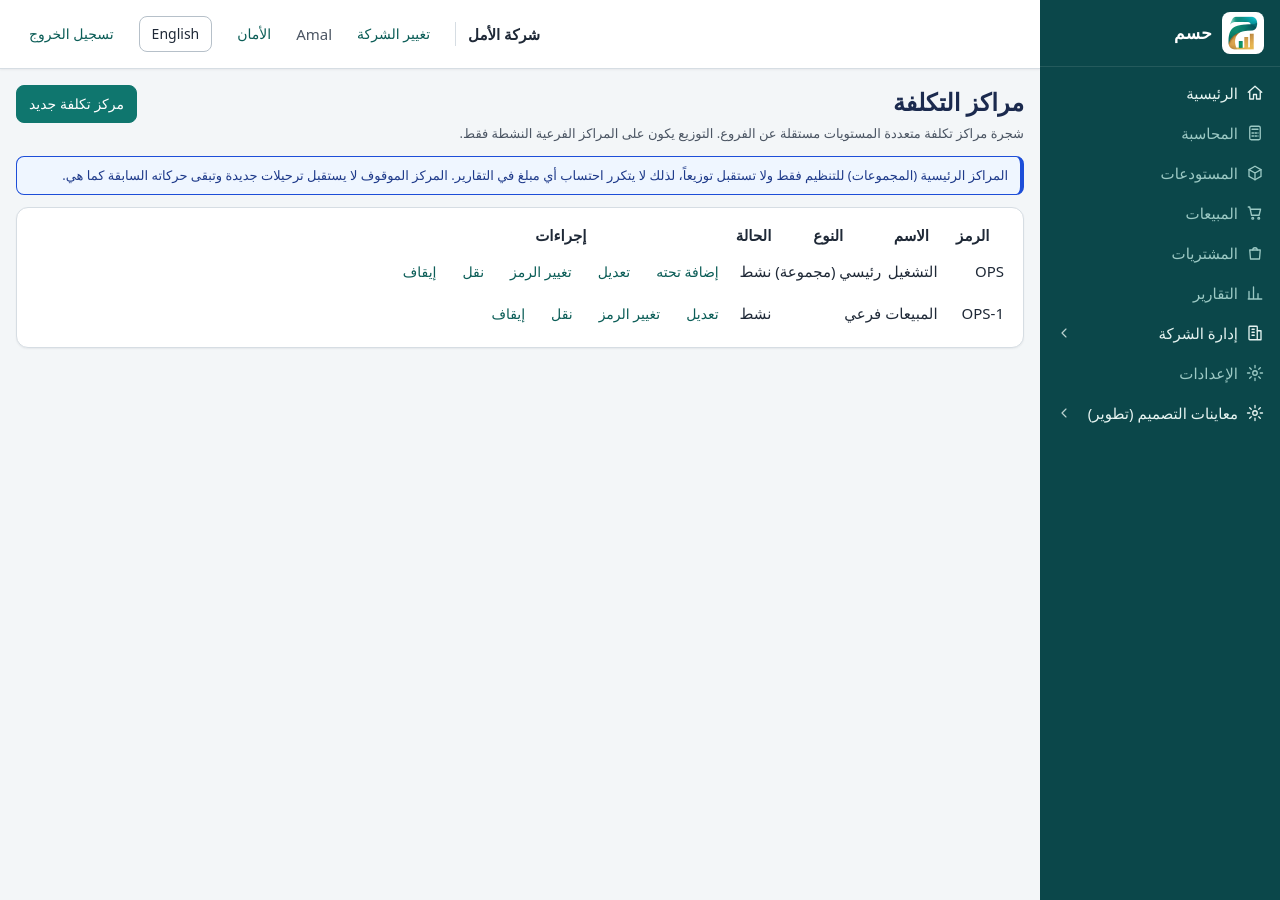
cost centers screen › re-codes, moves and deactivates with the item revision and maps a duplicate code to a clear message
Expected: the element with test id "company-name" is shown, [455,22,540,46]
Click the button "إيقاف" in the row of "OPS-1". click: (508, 313)
box: [478,294,538,332]
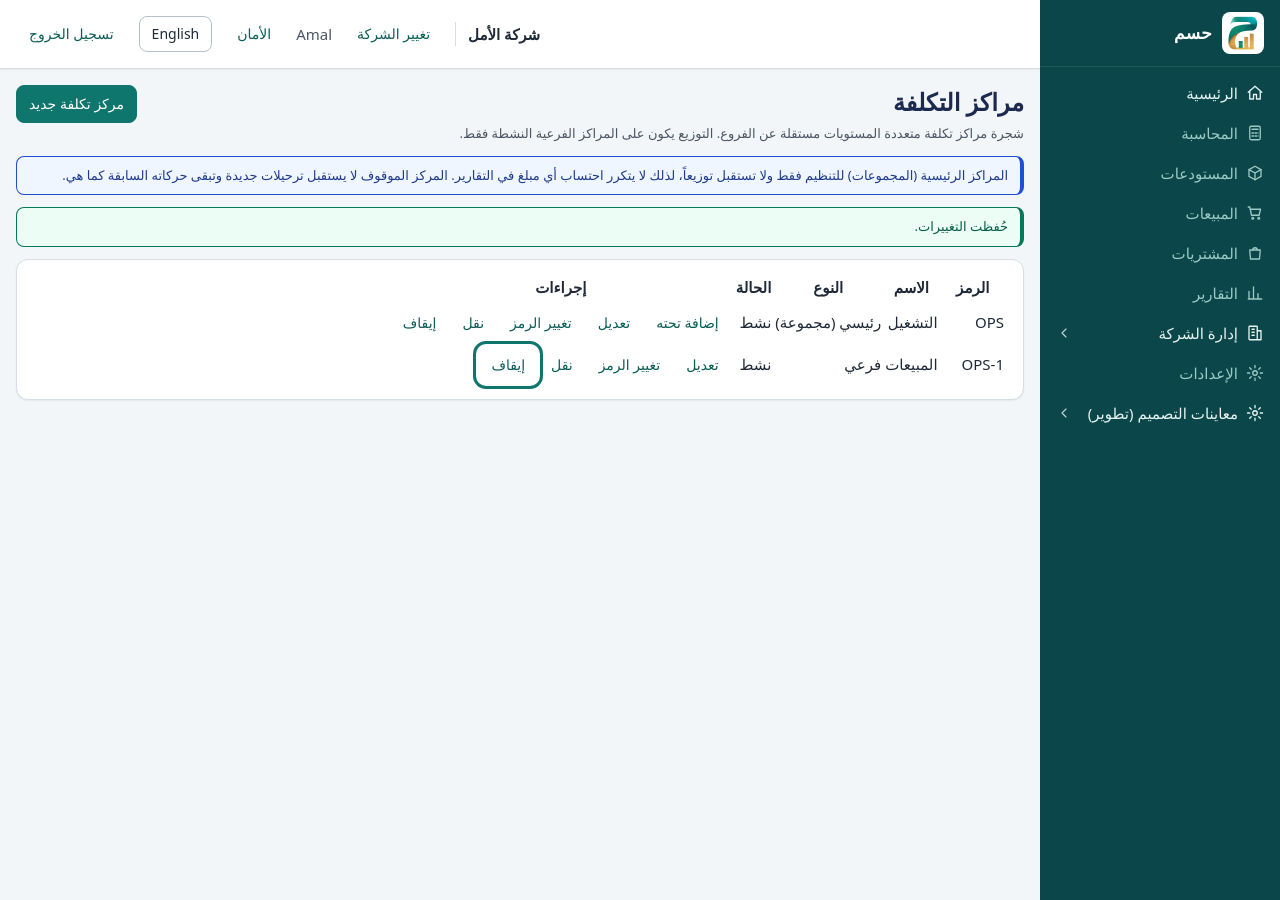
Click the button "نقل" in the row of "OPS-1". click: (562, 365)
box: [538,346,586,384]
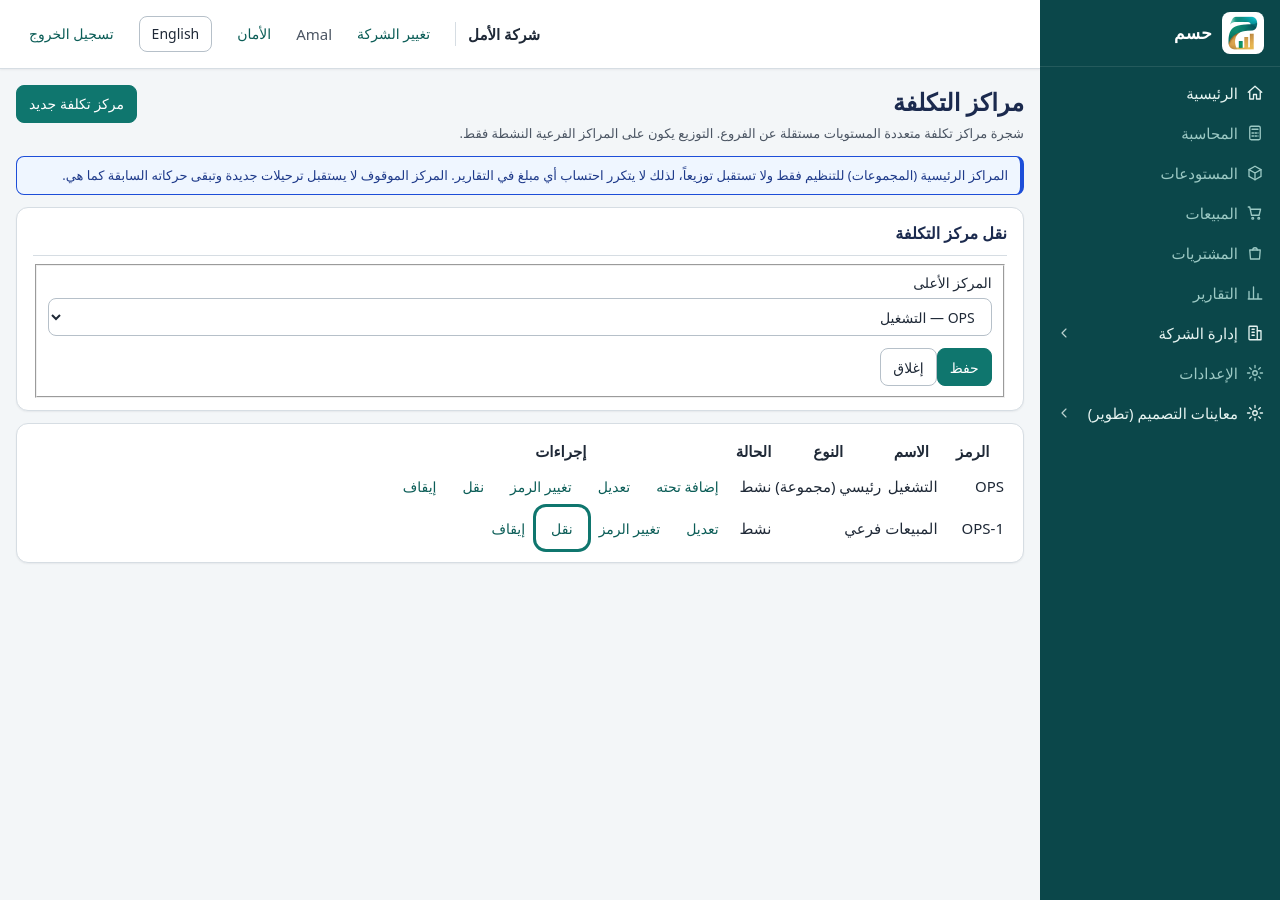
Click the button "حفظ". click: (964, 367)
box: [937,348,992,386]
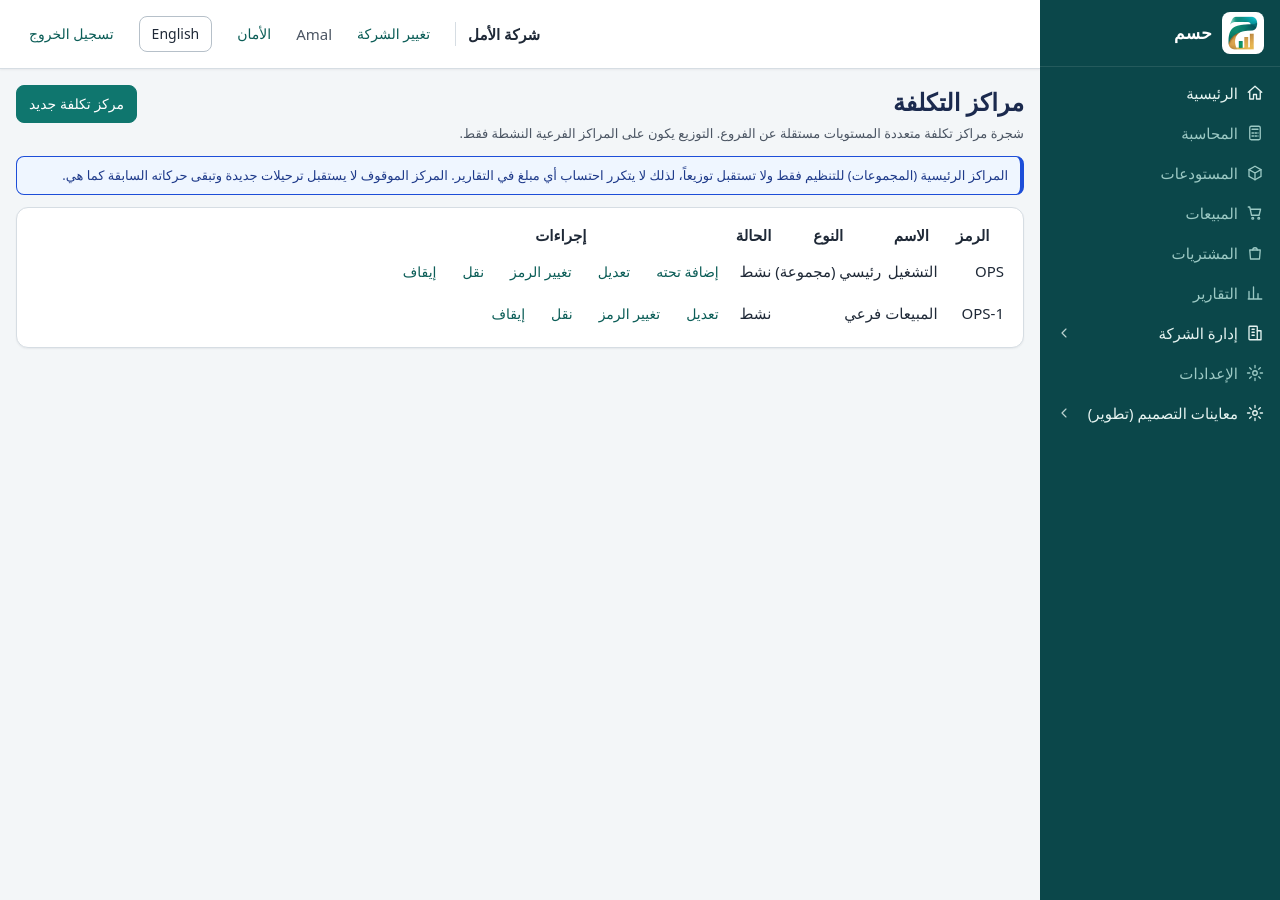
Click the button "تغيير الرمز" in the row of "OPS-1". click: (629, 313)
box: [586,294,673,332]
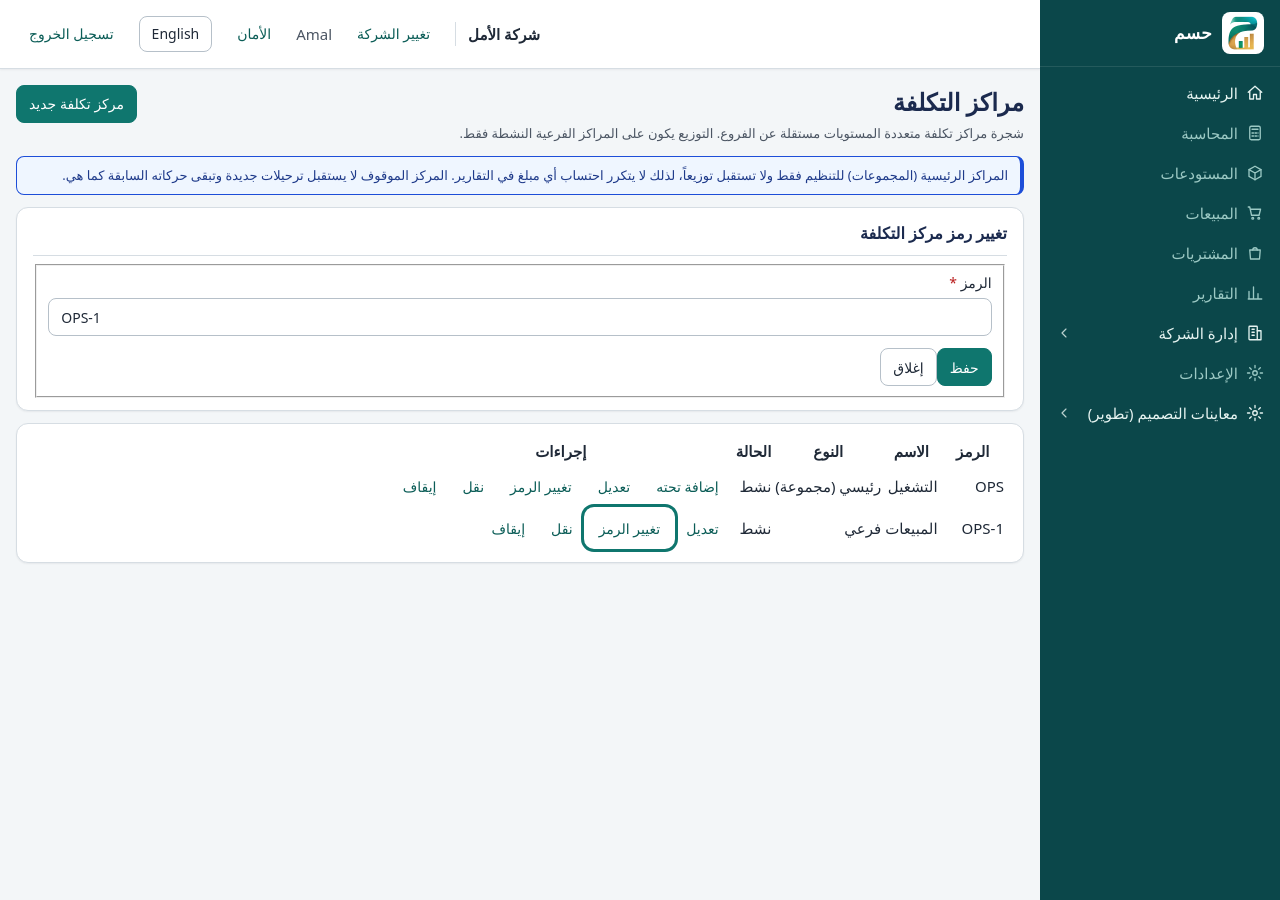
Replace the text in the field labelled "الرمز *" with "OPS". click: (520, 317)
box: [48,298,992,336]
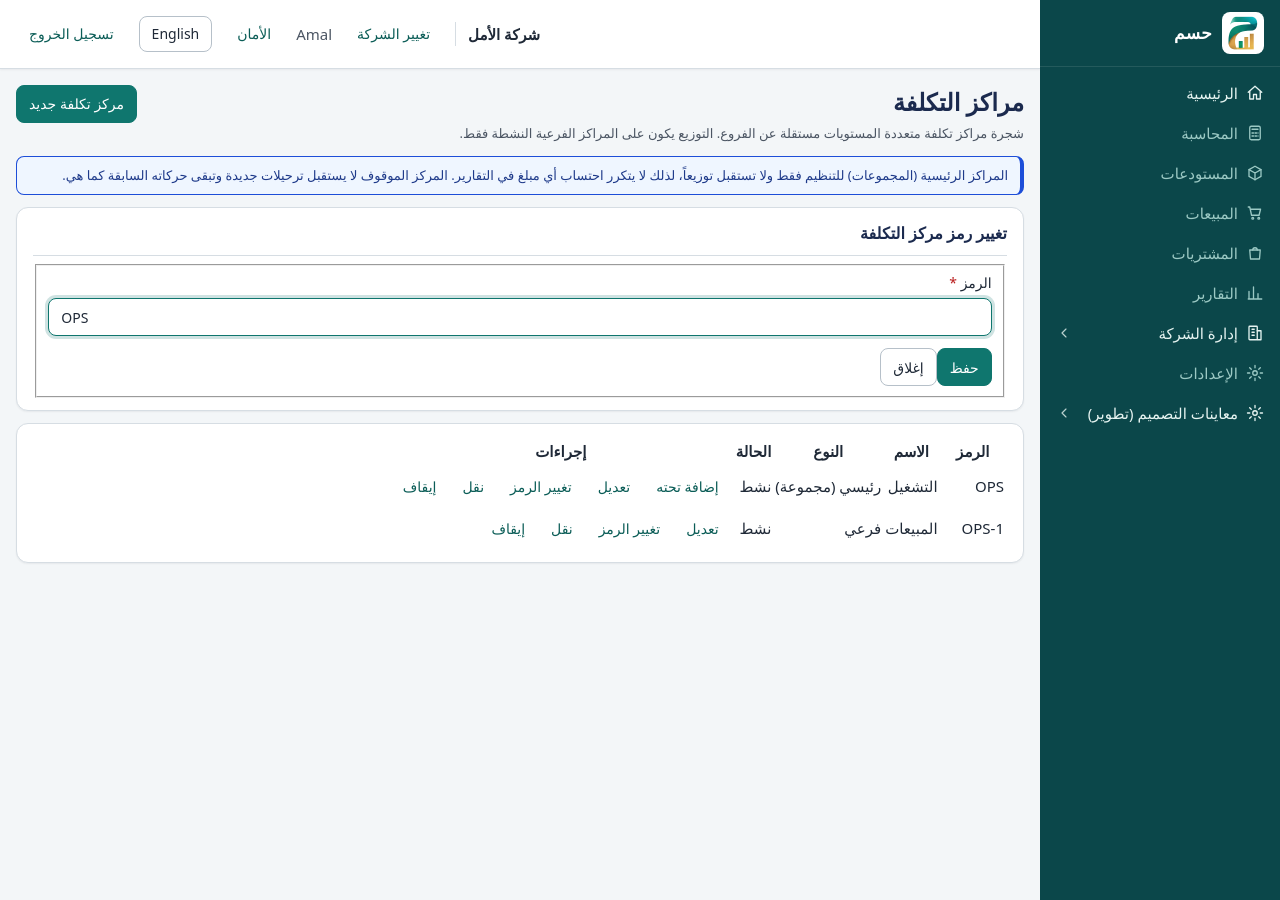
Click the button "حفظ". click: (964, 367)
box: [937,348,992,386]
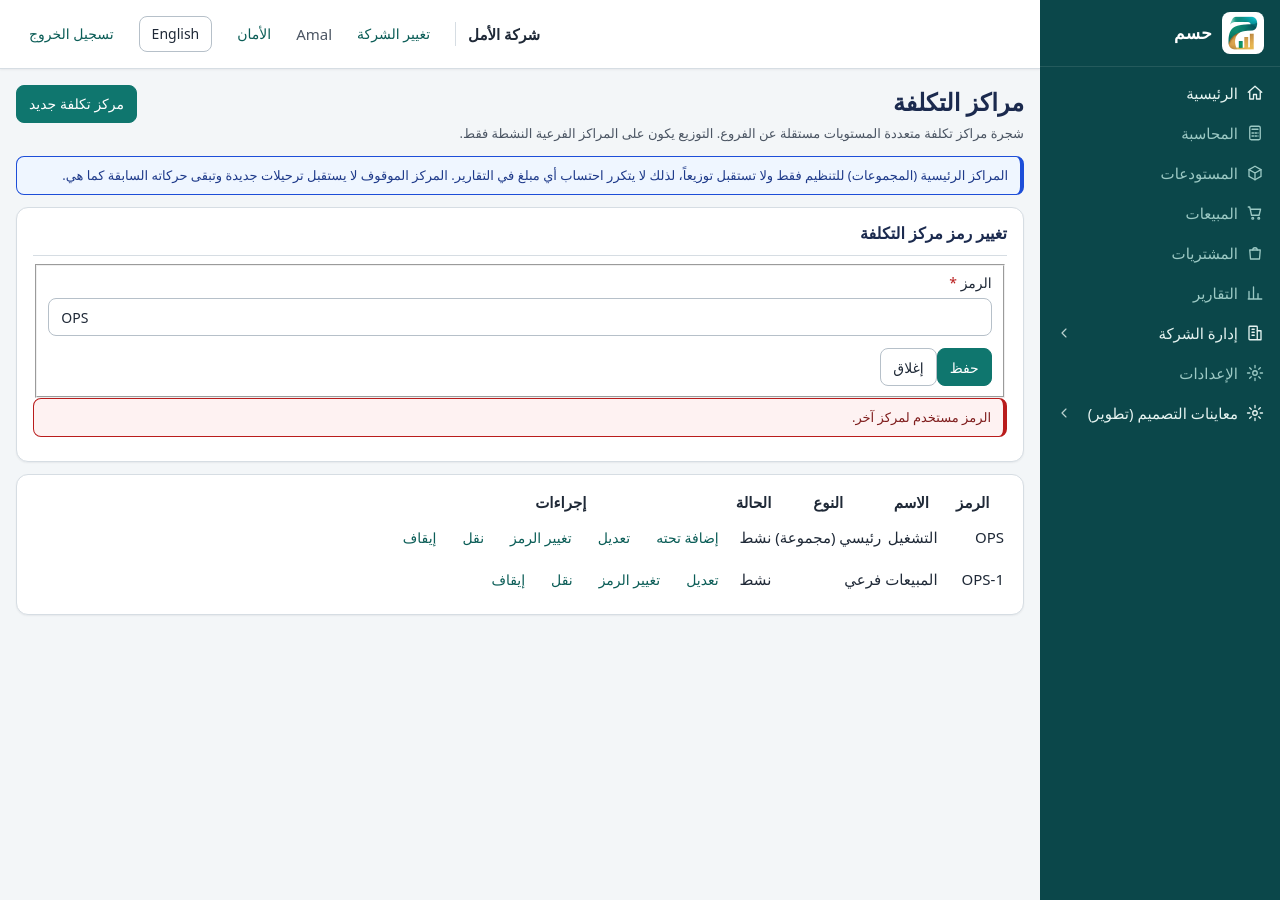
Result: the message with test id "cc-error" reads "الرمز مستخدم لمركز آخر." at [852,408,991,426]
